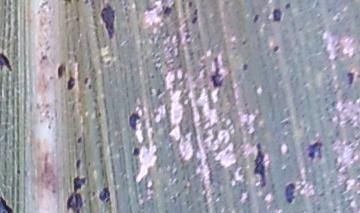tarspot: (65, 175, 87, 213), (97, 3, 119, 41), (251, 142, 267, 180), (210, 55, 224, 89), (126, 111, 142, 133), (306, 140, 322, 161), (1, 51, 15, 73), (1, 193, 16, 213), (283, 181, 296, 204), (97, 185, 111, 203), (54, 63, 68, 79), (270, 7, 283, 23), (161, 4, 174, 20), (345, 71, 354, 88), (66, 75, 75, 91), (131, 146, 141, 157), (74, 158, 83, 170), (271, 45, 281, 55), (190, 15, 199, 25), (252, 13, 260, 24), (75, 135, 83, 145), (241, 62, 249, 72), (283, 1, 292, 9), (82, 77, 90, 86), (62, 1, 74, 7), (192, 6, 199, 16), (186, 1, 194, 9), (14, 167, 21, 175), (41, 54, 49, 61), (240, 39, 247, 46), (87, 82, 93, 90), (326, 6, 332, 14), (74, 15, 79, 24), (149, 73, 155, 80), (353, 13, 359, 18), (83, 1, 88, 6), (75, 1, 80, 3)
